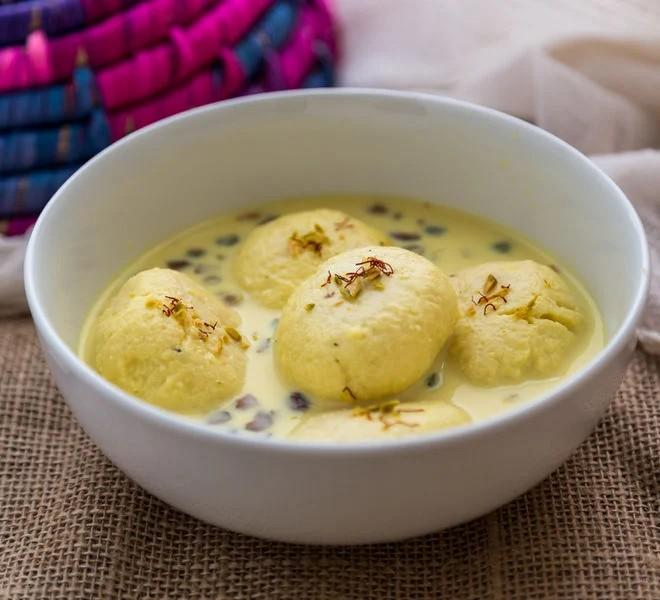RasMalai: (83, 188, 610, 449)
